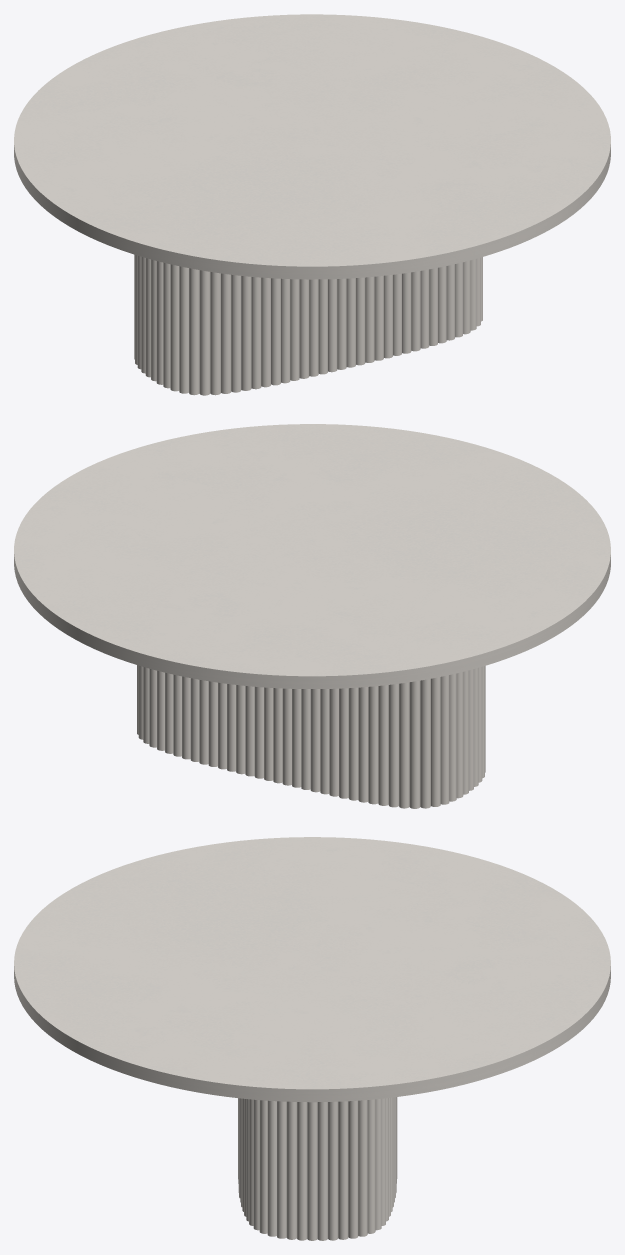
Rendered from pearlwhite_round_standard_newtable.glb.
The picture shows the model from 3 angles, top to bottom: view 1: azimuth 30°, elevation 25°; view 2: azimuth 150°, elevation 25°; view 3: azimuth 270°, elevation 25°; orthographic projection.
Visible parts, largest first — view 1: standard_round, plane; view 2: standard_round, plane; view 3: standard_round, plane.
Boxes of the visible parts, left/top/right/bottom form: standard_round: left=14, top=14, right=610, bottom=279; plane: left=134, top=254, right=482, bottom=395; standard_round: left=14, top=424, right=610, bottom=688; plane: left=137, top=665, right=485, bottom=808; standard_round: left=14, top=837, right=610, bottom=1102; plane: left=238, top=1097, right=397, bottom=1240.
Size of the model in its own units: 6.75 by 2.5 by 6.75.
Materials: 2 (2 with a texture image).
